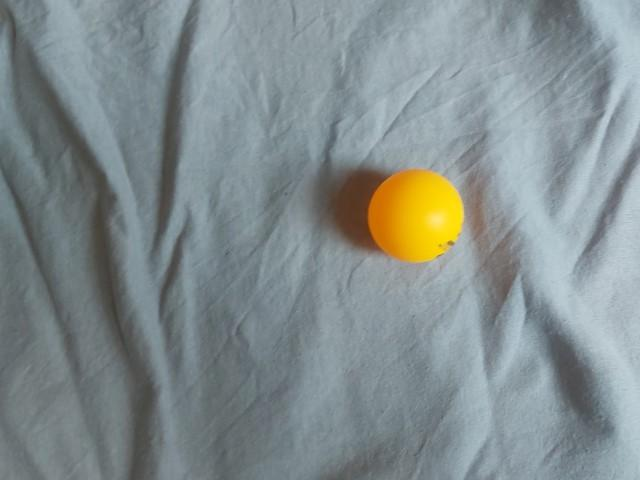oball: (161, 211, 283, 323)
